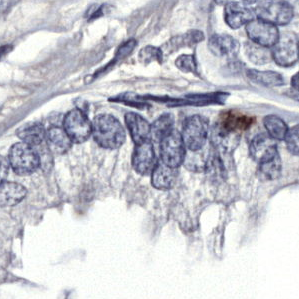Lymphocyte: (220, 110, 256, 137)
